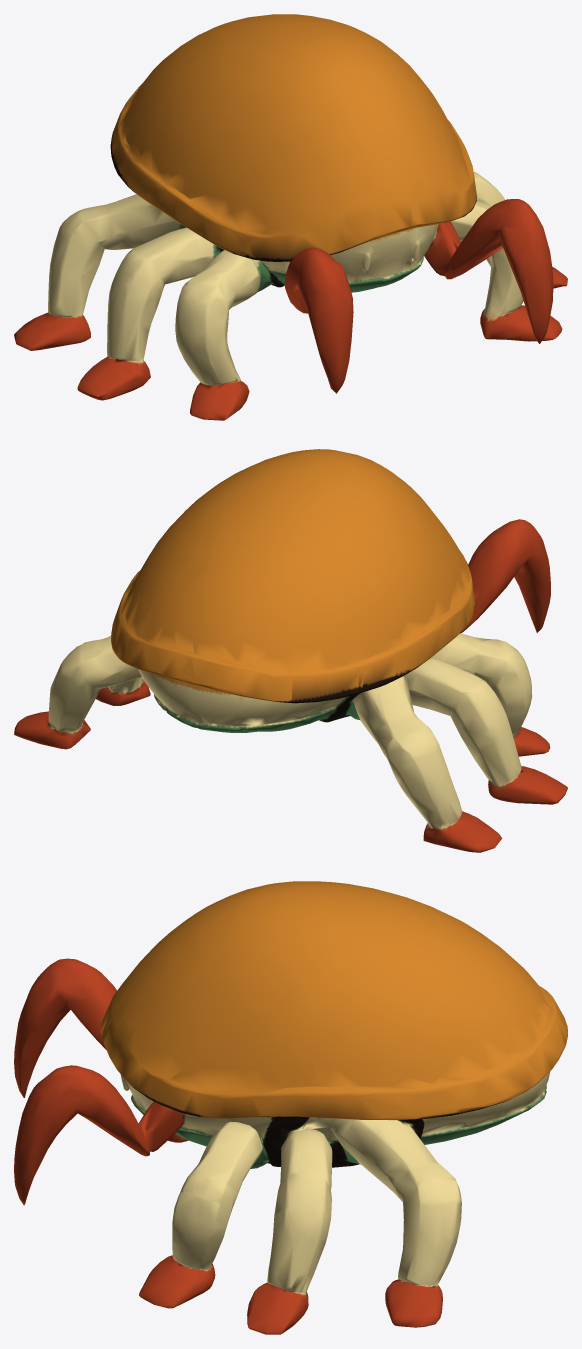
Rendered from body.glb.
3 views of the same model, one above another, from view 1: azimuth 30°, elevation 25°; view 2: azimuth 150°, elevation 25°; view 3: azimuth 270°, elevation 25° (orthographic). The views are drawn at different scales.
Parts seen in each view (by area): view 1: shellback; view 2: shellback; view 3: shellback.
Part boxes in pixels (bbox=[...]): shellback: bbox=[14, 14, 567, 420]; shellback: bbox=[14, 449, 567, 852]; shellback: bbox=[14, 881, 567, 1334].
Bounding box in the file's own units: 2.7 × 1.55 × 2.48.
Materials: 1 (1 with a texture image).
